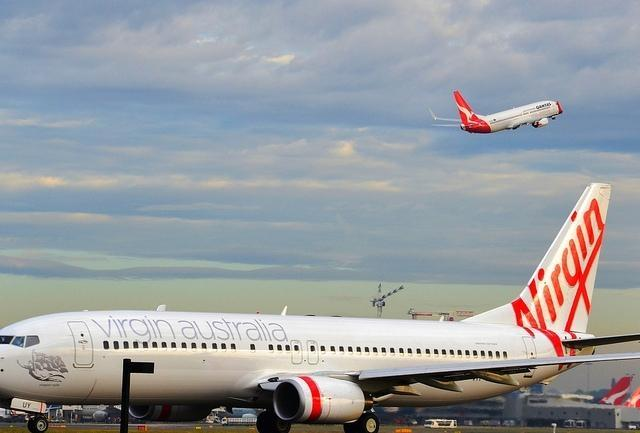bus: (423, 419, 458, 429)
